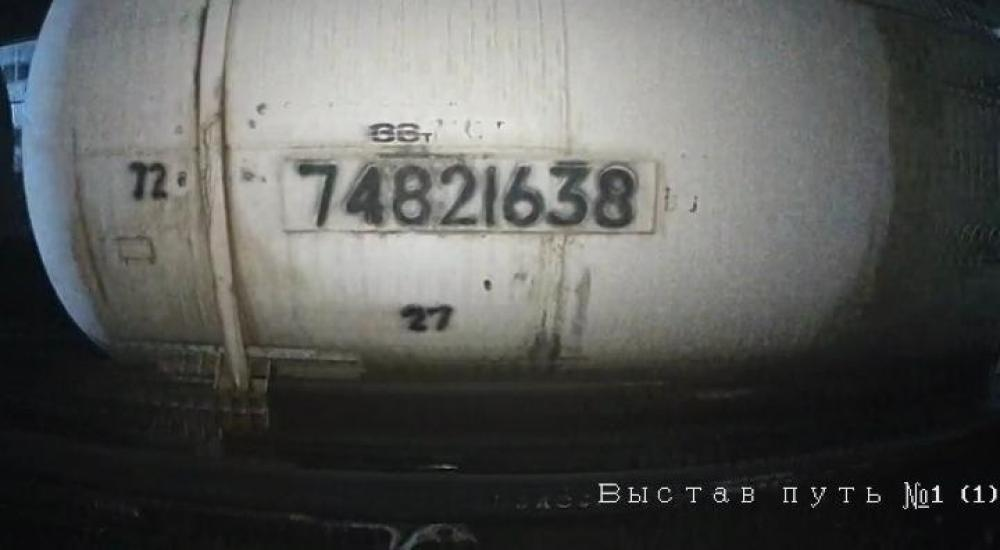Wagon-number: (287, 158, 649, 234)
